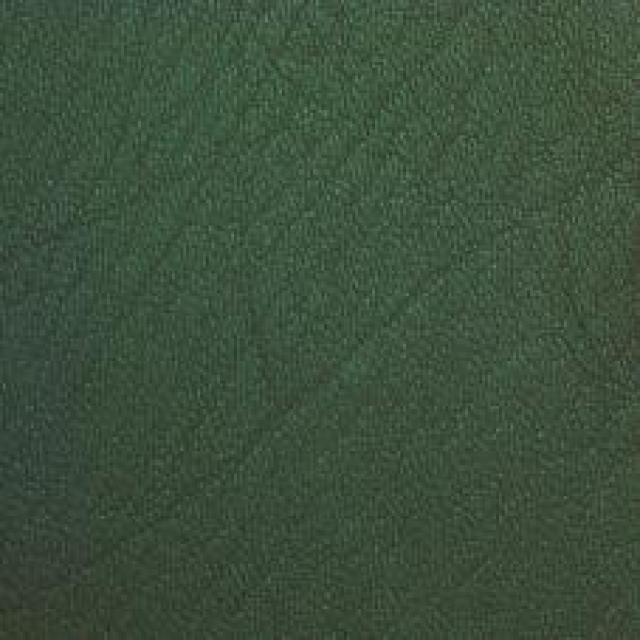Growth Marks: (100, 26, 503, 203), (109, 382, 385, 526)
